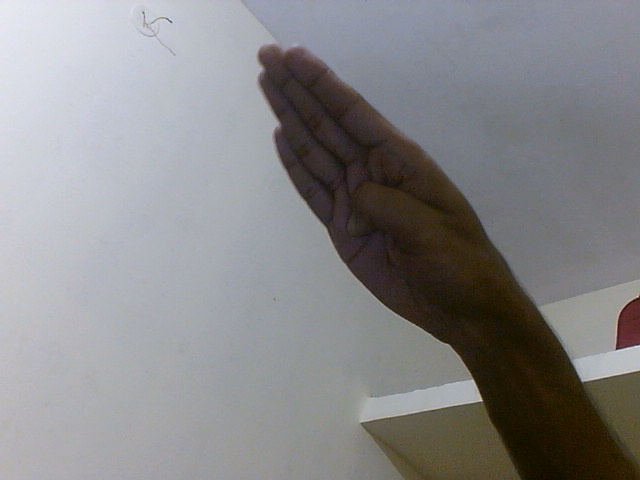hand: (250, 40, 520, 350)
